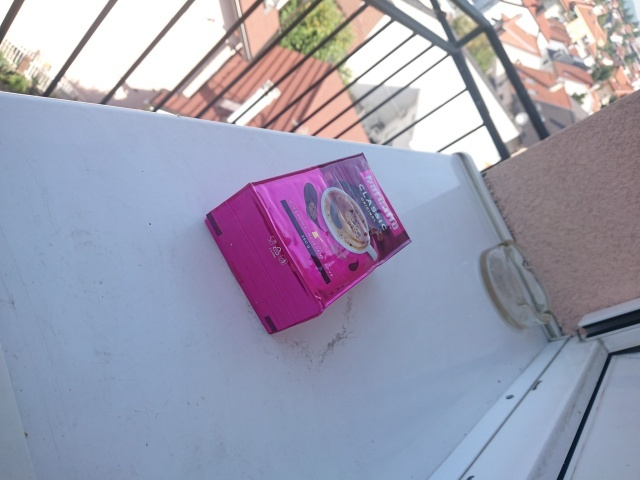Barcaffe Classic Original 225g: (202, 151, 415, 341)
